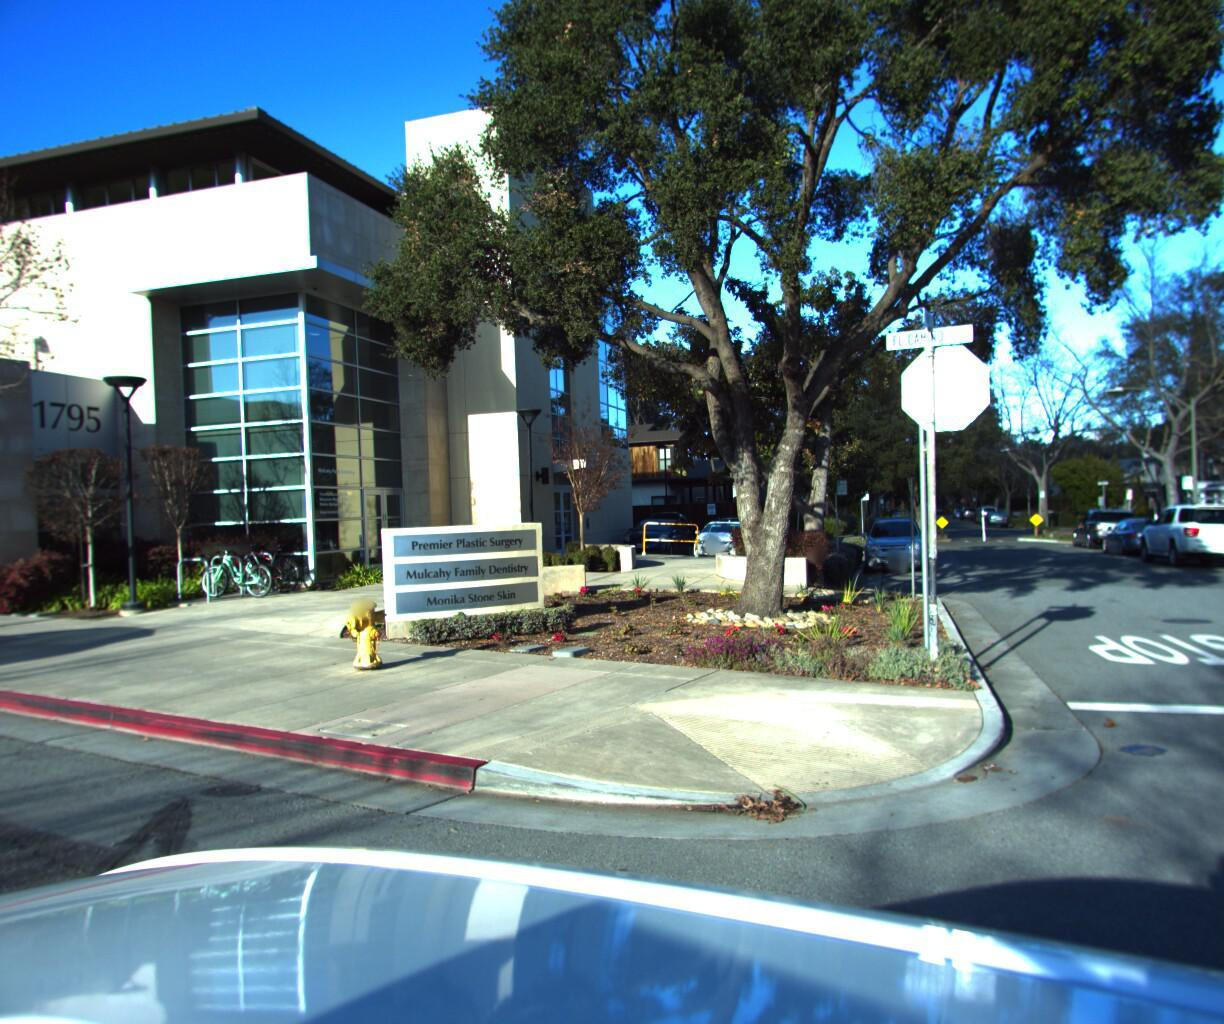bicycle: (192, 537, 289, 596), (222, 535, 315, 591)
car: (1130, 491, 1224, 568), (858, 508, 929, 571), (682, 504, 764, 557), (612, 509, 697, 558), (1097, 510, 1180, 554), (1068, 500, 1149, 544), (983, 504, 1009, 522)
